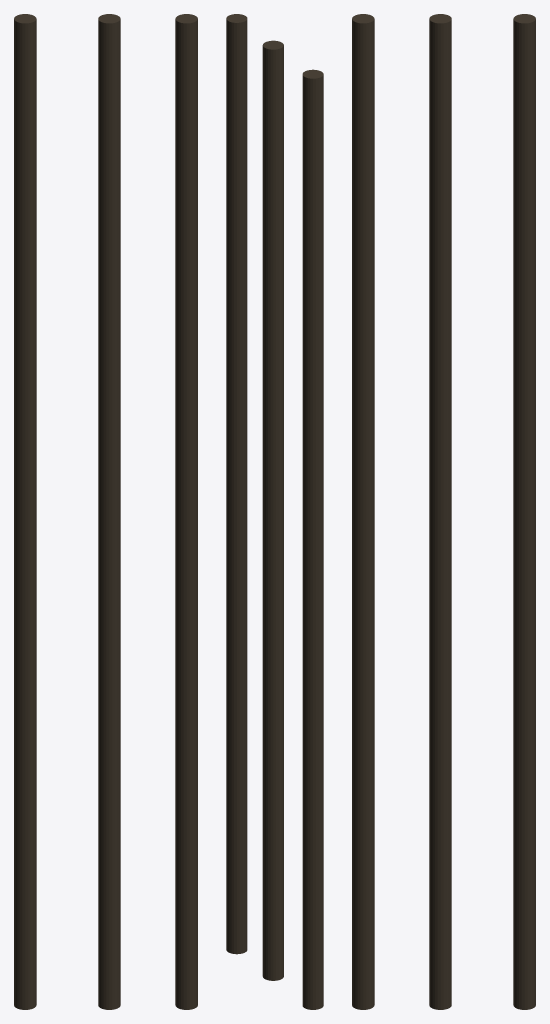
File: 14_openskp_material_113.obj
The picture shows the model from 3 angles, left to right: view 1: azimuth 90°, elevation 25°; view 2: azimuth 210°, elevation 25°; view 3: azimuth 270°, elevation 25°; orthographic projection. The views are drawn at different scales.
Parts seen in each view (by area): view 1: 14_openskp_material_113; view 2: 14_openskp_material_113; view 3: 14_openskp_material_113.
Boxes of the visible parts, box(x1,y1,x2,y2) form: 14_openskp_material_113: box(14, 14, 197, 1009); 14_openskp_material_113: box(226, 14, 323, 1009); 14_openskp_material_113: box(352, 14, 535, 1009).
Bounding box in the file's own units: 0.0711 × 3.45 × 0.5827.
